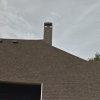Chimney: (33, 16, 61, 53)
